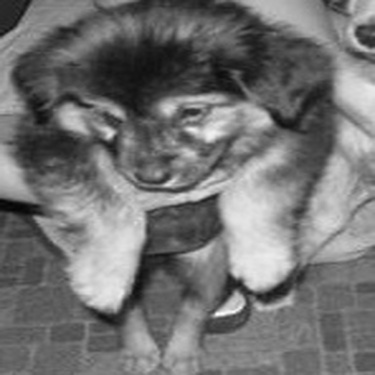dog: (2, 1, 337, 370), (276, 1, 371, 269)
